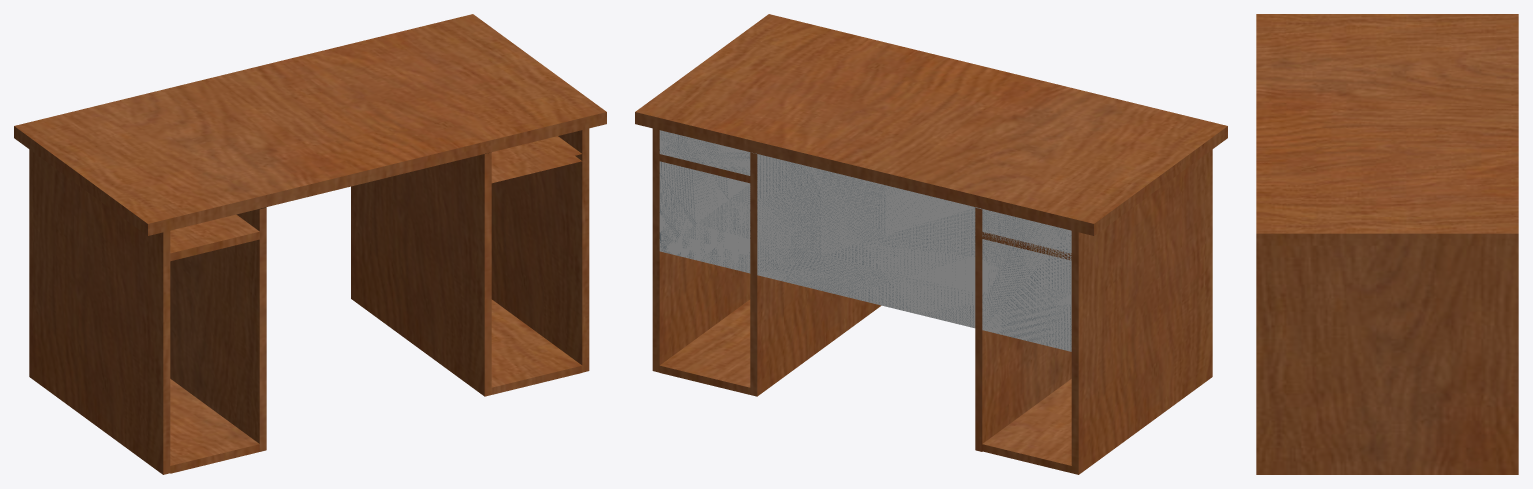
File: desk.fbx
3 views of the same model, side by side, from view 1: azimuth 30°, elevation 25°; view 2: azimuth 150°, elevation 25°; view 3: azimuth 270°, elevation 25° (orthographic).
Visible parts, largest first — view 1: Model, Component_3_1; view 2: Model, Component_3_1; view 3: Model.
Part boxes in pixels (x1,y1,x2,y2): Model: (14, 14, 606, 474); Component_3_1: (170, 214, 259, 261); Model: (635, 14, 1227, 474); Component_3_1: (982, 232, 1071, 260); Model: (1256, 14, 1518, 474).
Size of the model in its own units: 1.98 by 1.05 by 1.
